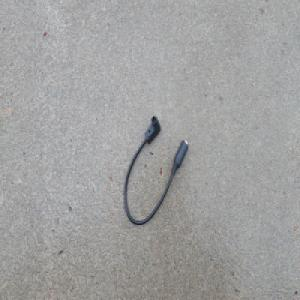Wire: (123, 115, 188, 227)
